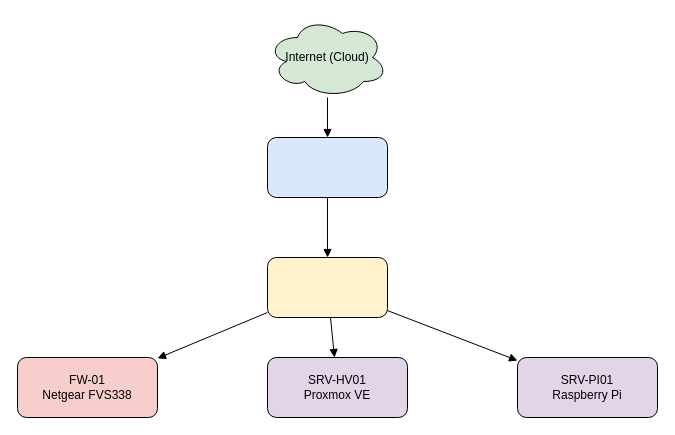
This 675x435 diagram has some shape labels left out. The shapes that lost their labels are listed below. From the top down, each one's centre as x and y in pixels, then its label:
[327,167]: RTR-01 WR802N (WISP)
[327,287]: SW-01 TP-Link Omada
